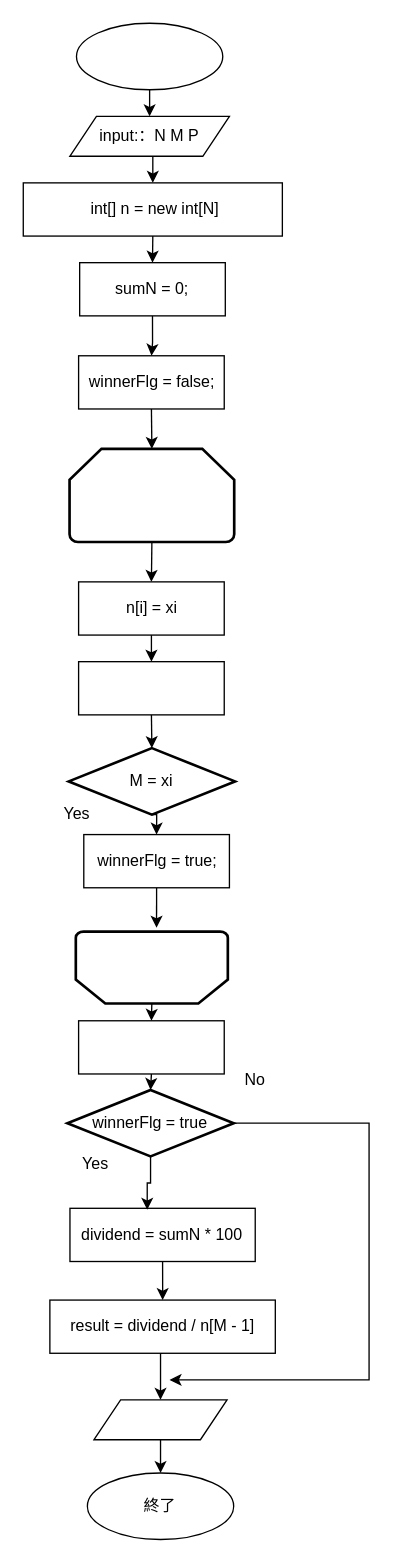
Some shapes in this 403 by 1563 pixel diagram are drawn without their labels. Each missing label, with the centre of its shape:
"output：result" belongs at point 160,1419.
"result = 0;" belongs at point 150,1046.
"sumN += xi" belongs at point 150,687.
"反復処理" belongs at point 151,967.
"反復処理 i = 0 i++ N回" belongs at point 151,495.
"開始" belongs at point 149,56.
